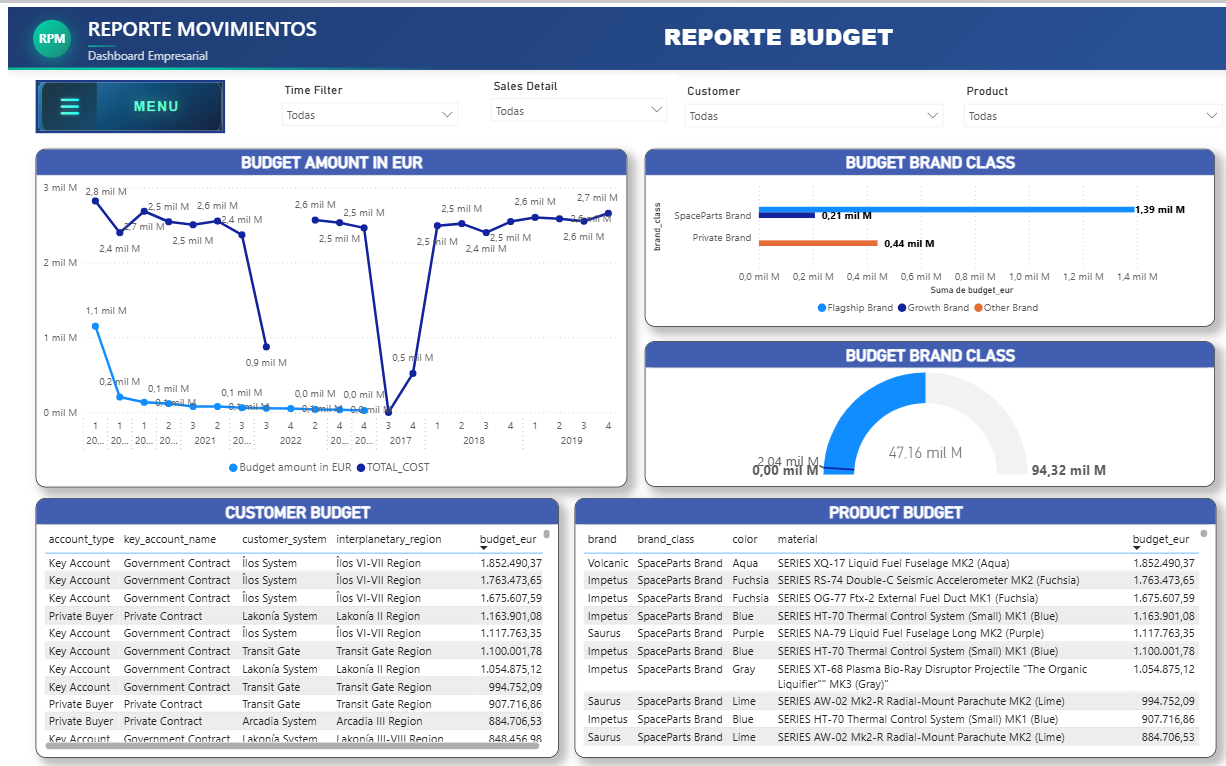

The page's visual inventory and layout, read from the dashboard file:
{"tool":"powerbi","page":{"name":"BUDGET","canvas":[1480,921],"ordinal":3},"visuals":[{"type":"group","id":"g1","title":"Grupo 1","box":[0,0,1480,920.8],"z":0},{"type":"htmlContent443BE3AD55E043BF878BED274D3A6855","fields":{"content":["Calendar.HTML Fondo Diapositiva"]},"box":[0,0,1480,920.8],"z":0,"group":"g1"},{"type":"textbox","box":[443.8,16,956.7,62.5],"z":1000,"group":"g1"},{"type":"lineChart","title":"BUDGET AMOUNT IN EUR","fields":{"Category":["Calendar.date Hierarchy.year","Calendar.date Hierarchy.quarter"],"Y":["Sum(gold_fact_budget.budget_eur)","gold_fact_sales.TOTAL_COST"]},"box":[37,173.3,703.7,403],"z":1000},{"type":"clusteredBarChart","title":"BUDGET BRAND CLASS","fields":{"Category":["gold_dim_product.brand_class"],"Series":["gold_dim_product.brand_flagship"],"Y":["Sum(gold_fact_budget.budget_eur)"]},"box":[763,173.3,678.5,211.9],"z":2000},{"type":"tableEx","title":"CUSTOMER BUDGET","fields":{"Values":["gold_dim_customer.account_type","gold_dim_customer.key_account_name","gold_dim_customer.customer_system","gold_dim_customer.interplanetary_region","gold_fact_budget.budget_eur"]},"box":[37.9,589.3,622.6,309],"z":3000},{"type":"tableEx","title":"PRODUCT BUDGET","fields":{"Values":["gold_dim_product.brand","gold_dim_product.brand_class","gold_dim_product.color","gold_dim_product.material","gold_fact_budget.budget_eur"]},"box":[678.6,589.3,763.5,309],"z":4000},{"type":"actionButton","box":[37.9,90.9,225.7,63.6],"z":5000},{"type":"gauge","title":"BUDGET BRAND CLASS","fields":{"Y":["gold_fact_sales.TOTAL_COST"],"TargetValue":["Sum(gold_fact_budget.budget_eur)"]},"box":[763,403,678.5,173.3],"z":7000},{"type":"slicer","fields":{"Values":["Calendar.date Hierarchy.year","Calendar.date Hierarchy.quarter","Calendar.date Hierarchy.monthName","Calendar.date Hierarchy.date"]},"box":[320.6,90.6,229.3,62.9],"z":8000},{"type":"slicer","fields":{"Values":["gold_dim_product.product_type","gold_dim_product.product_subtype","gold_dim_product.product_name","gold_dim_product.color"]},"box":[1132.7,90.8,327.7,62.3],"z":9000},{"type":"slicer","fields":{"Values":["gold_dim_customer.account_type","gold_dim_customer.station","gold_dim_customer.account_name","gold_dim_customer.account_manager"]},"box":[799.7,90.8,327.7,62.3],"z":10000},{"type":"slicer","fields":{"Values":["gold_fact_sales.document_category","gold_fact_sales.document_type_description"]},"box":[569.9,85.5,229.7,73],"z":11000}]}

Visuals, with their boxes in screenshot pixels (x1, y1, x2, y2), scaled from the page's 1480x921 canvas onto the 1226x766 screenshot:
"Grupo 1" group: {"left": 0, "top": 0, "right": 1225, "bottom": 765}
htmlContent443BE3AD55E043BF878BED274D3A6855 - Calendar.HTML Fondo Diapositiva: {"left": 0, "top": 0, "right": 1225, "bottom": 765}
textbox: {"left": 368, "top": 13, "right": 1160, "bottom": 65}
"BUDGET AMOUNT IN EUR" lineChart: {"left": 31, "top": 144, "right": 614, "bottom": 479}
"BUDGET BRAND CLASS" clusteredBarChart: {"left": 632, "top": 144, "right": 1194, "bottom": 320}
"CUSTOMER BUDGET" tableEx: {"left": 31, "top": 490, "right": 547, "bottom": 747}
"PRODUCT BUDGET" tableEx: {"left": 562, "top": 490, "right": 1195, "bottom": 747}
actionButton: {"left": 31, "top": 76, "right": 218, "bottom": 128}
"BUDGET BRAND CLASS" gauge: {"left": 632, "top": 335, "right": 1194, "bottom": 479}
slicer - Calendar.date Hierarchy.year x Calendar.date Hierarchy.quarter: {"left": 266, "top": 75, "right": 456, "bottom": 128}
slicer - gold_dim_product.product_type x gold_dim_product.product_subtype: {"left": 938, "top": 76, "right": 1210, "bottom": 127}
slicer - gold_dim_customer.account_type x gold_dim_customer.station: {"left": 662, "top": 76, "right": 934, "bottom": 127}
slicer - gold_fact_sales.document_category x gold_fact_sales.document_type_description: {"left": 472, "top": 71, "right": 662, "bottom": 132}
